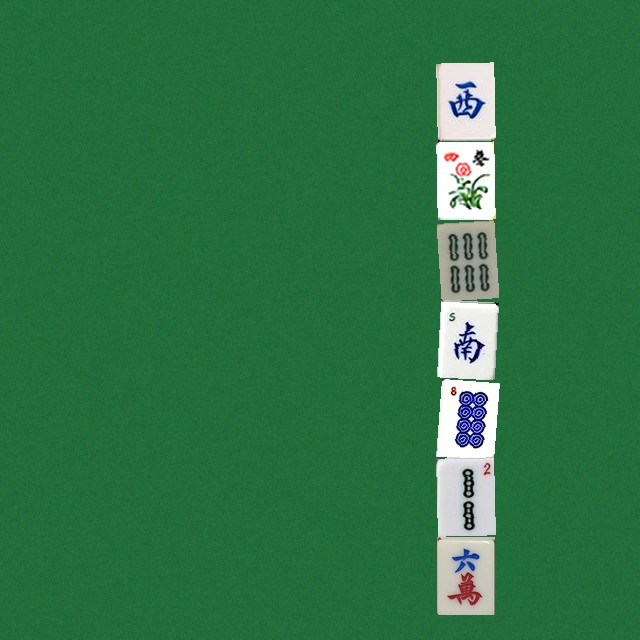tile: (436, 62, 494, 140), (436, 141, 494, 219), (436, 220, 494, 298), (436, 299, 494, 377), (436, 378, 494, 456), (436, 457, 494, 535), (436, 536, 494, 614)
